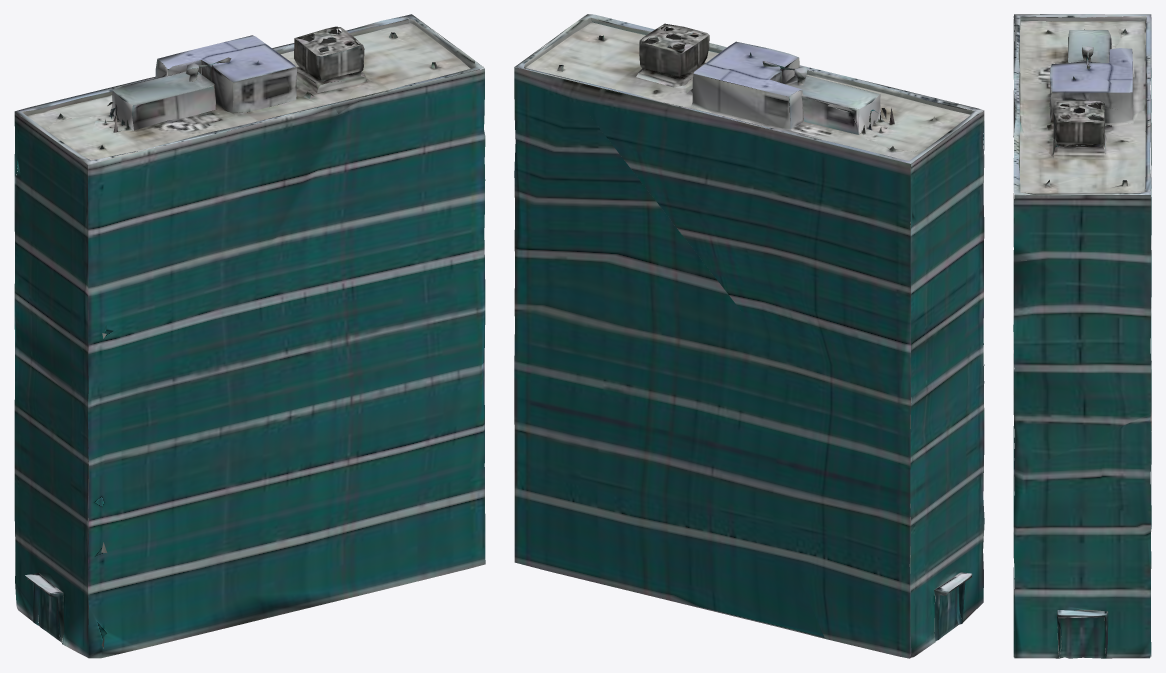
Rendered from stadt_buero.glb.
3 renders of one model, left to right at view 1: azimuth 30°, elevation 25°; view 2: azimuth 150°, elevation 25°; view 3: azimuth 270°, elevation 25°, orthographic. The views are drawn at different scales.
Parts seen in each view (by area): view 1: Prop; view 2: Prop; view 3: Prop.
Part boxes in pixels (x1,y1,x2,y2): Prop: (14,14,485,658); Prop: (514,14,984,658); Prop: (1013,14,1151,658).
Size of the model in its own units: 0.8364 by 1 by 0.2523.
1 material, 1 textured.
